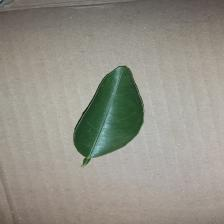healthy: (71, 60, 147, 159)
